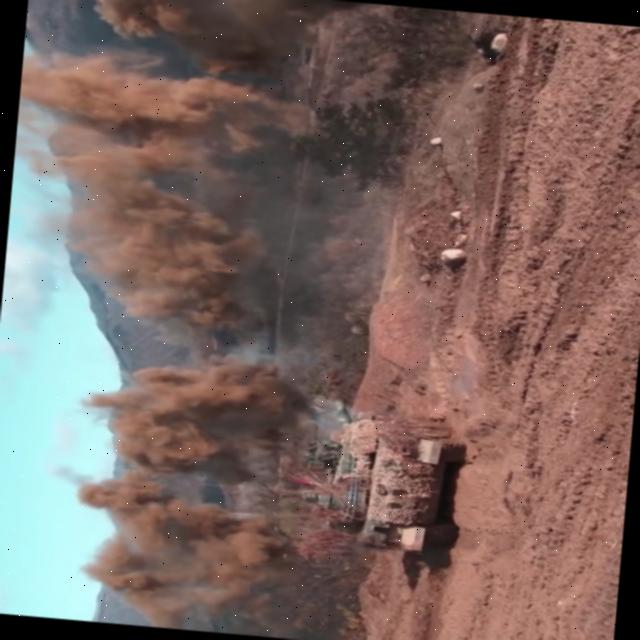korea tank: (290, 366, 477, 578)
